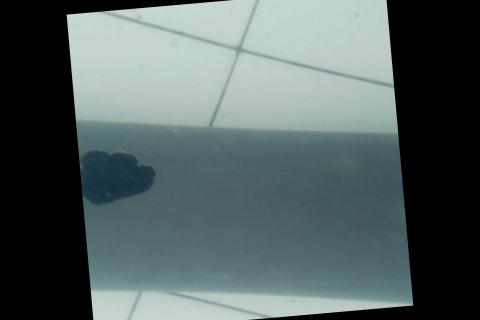kebocoran: (78, 141, 159, 207)
